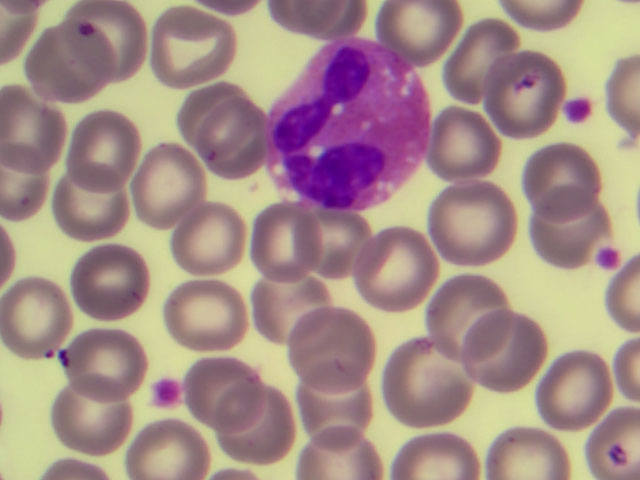Platelets: (155, 382, 182, 407), (568, 97, 590, 125)
RBC: (428, 180, 513, 265), (465, 310, 544, 400), (382, 341, 465, 426), (150, 5, 235, 87), (292, 312, 373, 397), (489, 53, 563, 145), (428, 275, 507, 359), (521, 141, 602, 221), (27, 25, 111, 101), (358, 228, 434, 310), (1, 278, 77, 359), (65, 1, 141, 82), (132, 146, 200, 232), (51, 167, 131, 240), (162, 283, 247, 349), (1, 89, 65, 176), (300, 370, 373, 446), (196, 99, 266, 177), (66, 334, 144, 402), (287, 215, 371, 278), (536, 187, 600, 269), (541, 349, 606, 428), (179, 82, 251, 153), (434, 103, 501, 179), (53, 380, 124, 450), (218, 386, 287, 458), (250, 210, 318, 283), (258, 269, 328, 339), (74, 251, 147, 318), (177, 204, 245, 275), (70, 113, 136, 186), (190, 362, 262, 425), (454, 18, 510, 99), (486, 422, 563, 480), (391, 433, 482, 480), (2, 134, 47, 224), (585, 407, 640, 480), (379, 1, 447, 60), (131, 424, 202, 480), (303, 429, 377, 480), (607, 59, 640, 134), (501, 1, 582, 30), (265, 1, 345, 28), (614, 337, 640, 402), (618, 253, 640, 324)
WBC: (267, 39, 425, 210)
